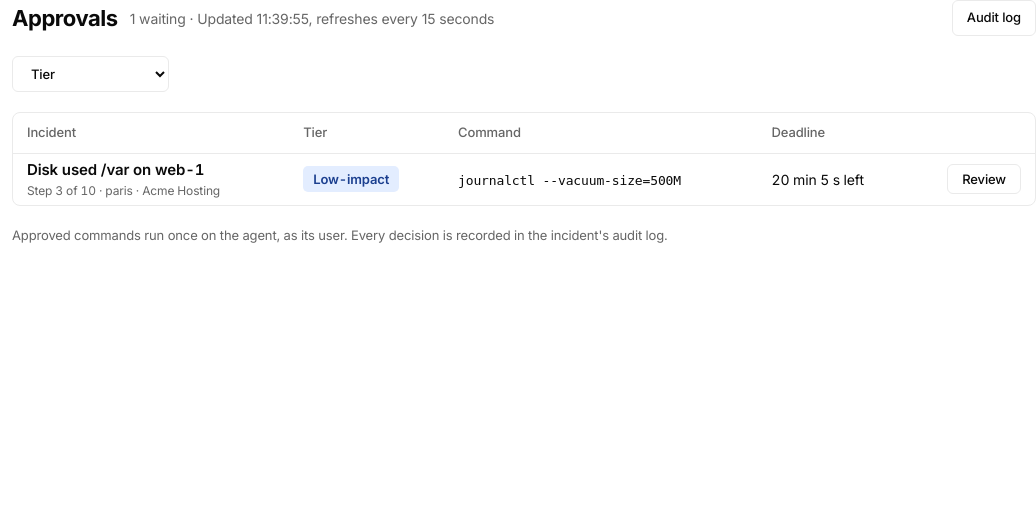
Scenario: ApprovalQueue › approves as proposed and refreshes the queue
Click the button with aria-label "Review the command for web-1": (984, 179) [947,164,1021,194]
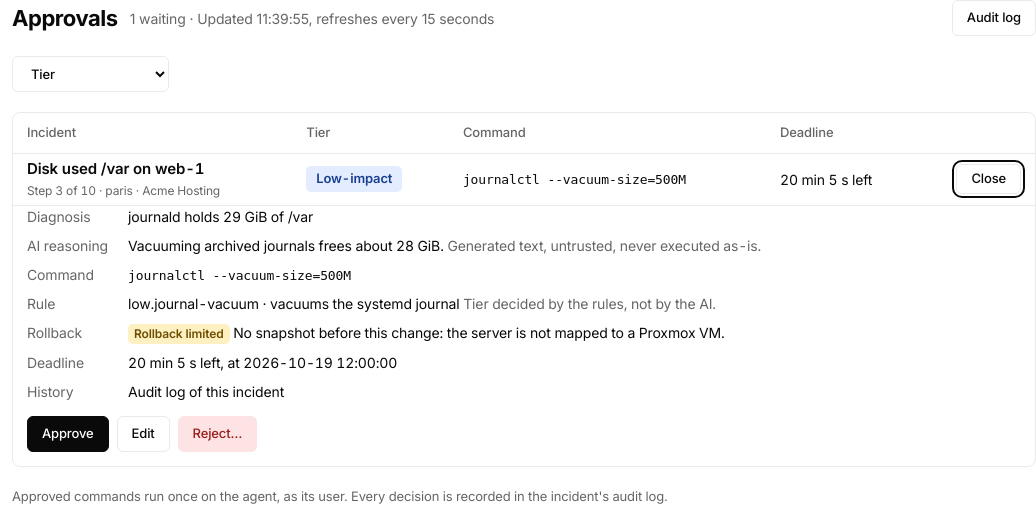
Click the button "Approve": (68, 434) [27,416,109,452]
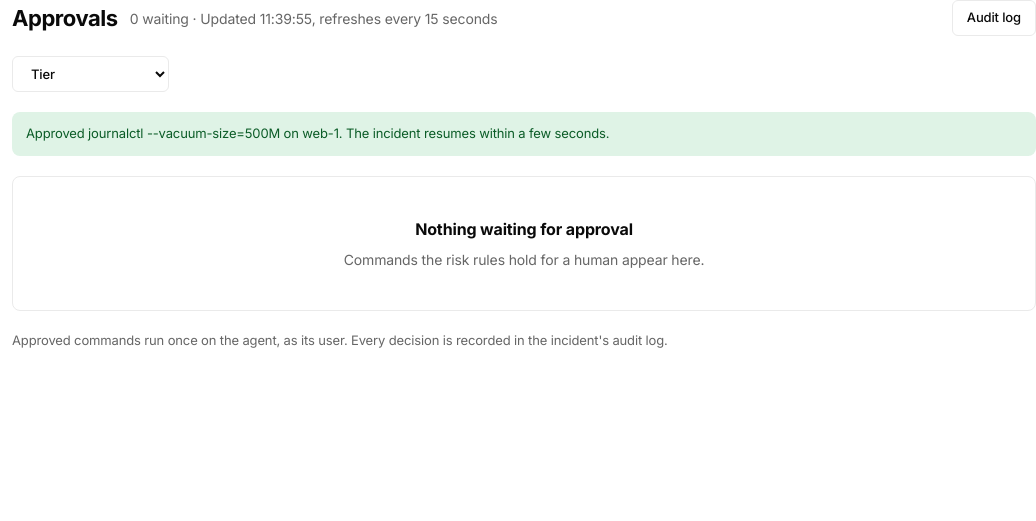
Expected: the text "Approved journalctl --vacuum-size=500M on web-1. The incident resumes" is shown, [26,125,609,141]
Expected: the text "Nothing waiting for approval" is shown, [415,216,633,240]
